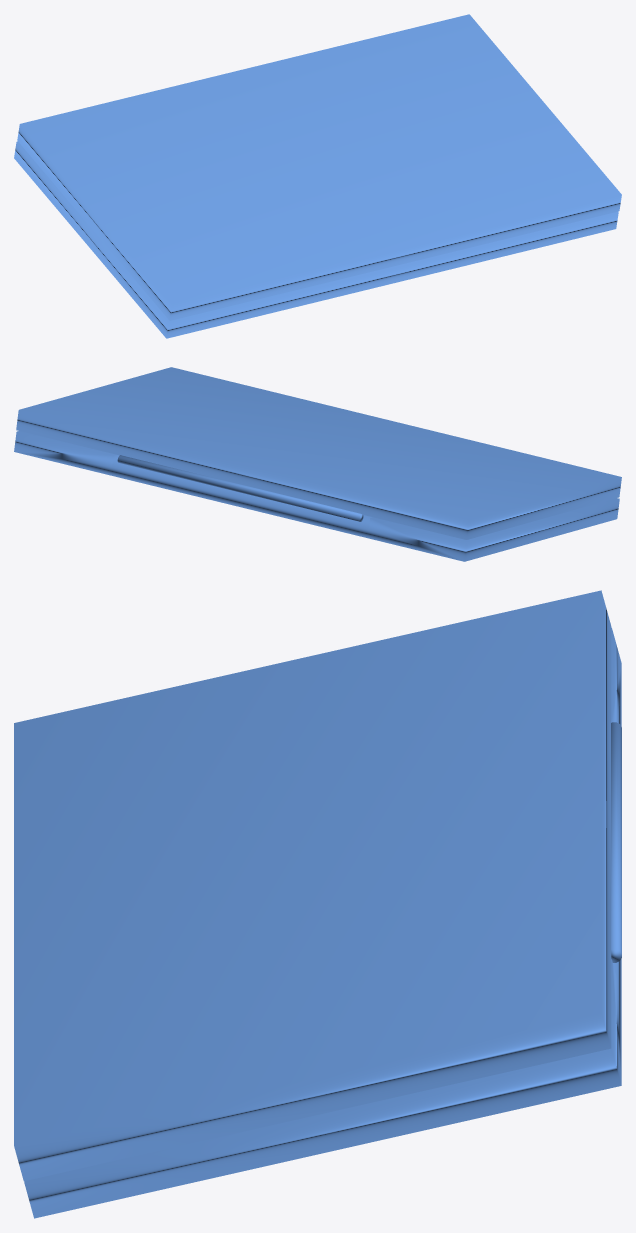
The model's file is laptop-pop.glb.
The picture shows the model from 3 angles, top to bottom: view 1: azimuth 30°, elevation 25°; view 2: azimuth 150°, elevation 25°; view 3: azimuth 270°, elevation 25°; orthographic projection. The views are drawn at different scales.
Parts seen in each view (by area): view 1: displayFrame, keyboard; view 2: displayFrame, keyboard, rotationBar; view 3: displayFrame, keyboard, rotationBar.
Boxes of the visible parts, left/top/right/bottom form: displayFrame: left=17, top=14, right=621, bottom=320; keyboard: left=14, top=141, right=618, bottom=338; displayFrame: left=16, top=367, right=621, bottom=539; keyboard: left=14, top=431, right=619, bottom=561; rotationBar: left=117, top=455, right=363, bottom=521; displayFrame: left=14, top=590, right=611, bottom=1181; keyboard: left=24, top=627, right=621, bottom=1218; rotationBar: left=611, top=722, right=621, bottom=962.
Bounding box in the file's own units: 3.31 × 0.7509 × 2.01.
